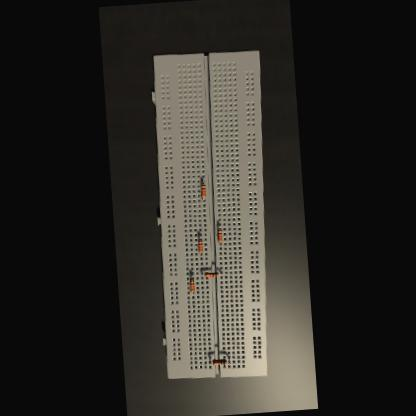breadboard: (142, 48, 283, 383)
resistor: (212, 359, 226, 366), (200, 184, 206, 198), (204, 272, 217, 278), (218, 228, 223, 242), (198, 238, 203, 252), (189, 278, 194, 292)
wire: (226, 357, 229, 363), (210, 357, 212, 363), (218, 272, 221, 275), (202, 272, 204, 275), (191, 272, 192, 278), (219, 224, 220, 228), (202, 182, 204, 184), (219, 242, 220, 244), (203, 198, 204, 200), (200, 235, 200, 238), (192, 293, 192, 294)
